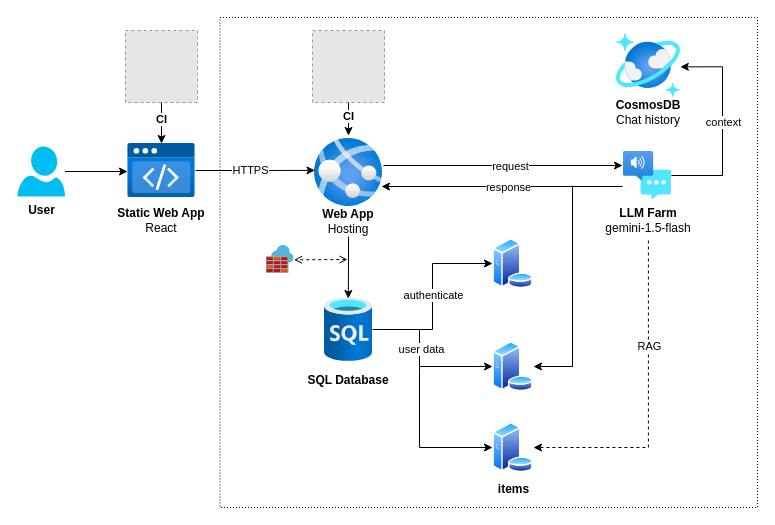
Some shapes in this 775 by 525 pixel diagram are drawn without their labels. Grey dashed boxes stand in for pictures. Here are the shapes that lost their labels. From the top down, the centre of each, then its label:
point 512,263: users
point 512,366: recipes
